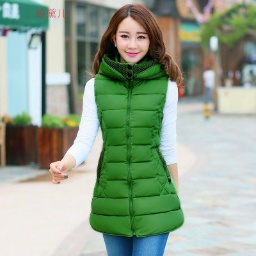face: (99, 5, 168, 67)
